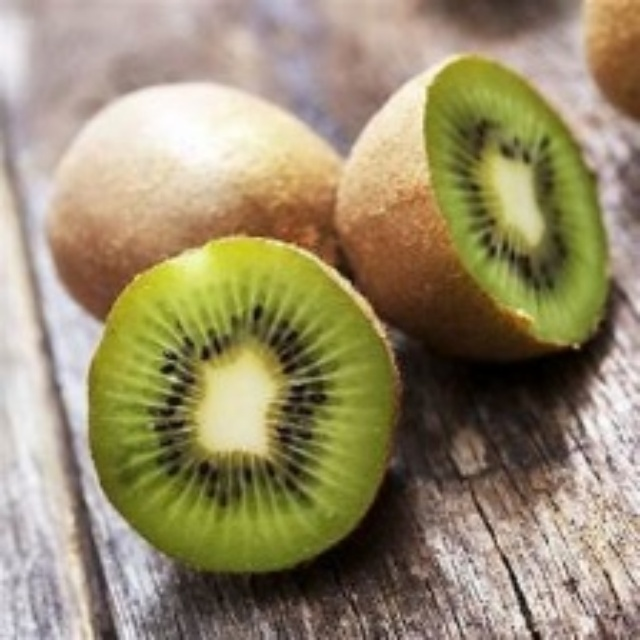kiwi: (76, 239, 399, 579), (328, 46, 609, 368), (35, 86, 348, 322)
